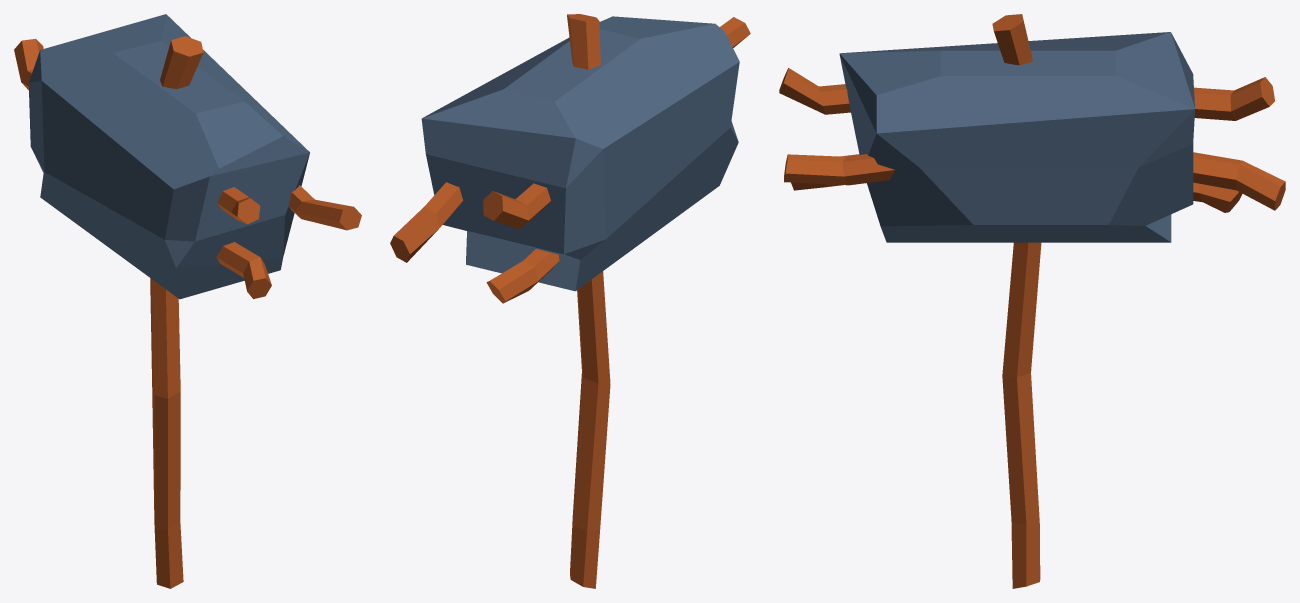
File: Armature.fbx
3 views of the same model, side by side, from view 1: azimuth 30°, elevation 25°; view 2: azimuth 150°, elevation 25°; view 3: azimuth 270°, elevation 25° (orthographic). The views are drawn at different scales.
Visible parts, largest first — view 1: Armature; view 2: Armature; view 3: Armature.
Boxes of the visible parts, left/top/right/bottom form: Armature: left=14, top=14, right=361, bottom=588; Armature: left=390, top=14, right=750, bottom=588; Armature: left=779, top=14, right=1285, bottom=588.
Size of the model in its own units: 0.6884 by 2.36 by 1.88.
